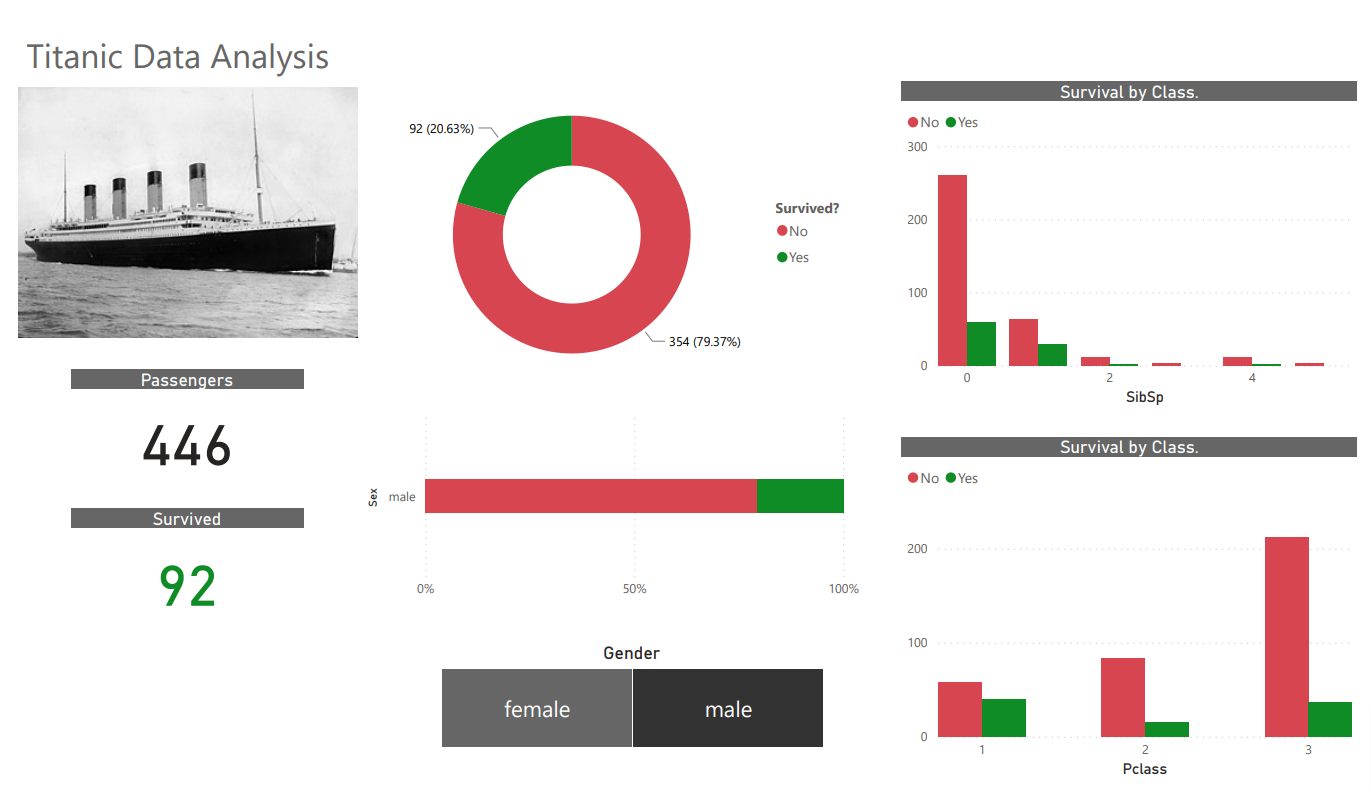

This screenshot's page, from the dashboard's own definition file:
{"tool":"powerbi","page":{"name":"Final","canvas":[1280,720],"ordinal":1},"visuals":[{"type":"image","box":[0,13.6,332.6,326.8],"z":0},{"type":"pieChart","title":"SURVIVED?","fields":{"Y":["CountNonNull(titanic_train.Sex)"],"Series":["titanic_train.Survived - Copy"]},"box":[332.6,30.2,477.6,336.5],"z":1000},{"type":"slicer","title":"Gender","fields":{"Values":["titanic_train.Sex"]},"box":[397.8,608.9,412.4,94.3],"z":2000},{"type":"clusteredColumnChart","title":"Survival by Class.","fields":{"Category":["titanic_train.Pclass"],"Y":["CountNonNull(titanic_train.Name)"],"Series":["titanic_train.Survived - Copy"]},"box":[846.2,391,433.8,328.8],"z":3000},{"type":"card","title":"Passengers","fields":{"Values":["CountNonNull(titanic_train.Name)"]},"box":[55.4,326.8,220.8,111.9],"z":4000},{"type":"clusteredColumnChart","title":"Survival by Class.","fields":{"Y":["CountNonNull(titanic_train.Name)"],"Series":["titanic_train.Survived - Copy"],"Category":["titanic_train.SibSp"]},"box":[846.2,52.5,433.8,314.2],"z":5000},{"type":"card","title":"Survived","fields":{"Values":["Sum(titanic_train.Survived)"]},"box":[55.4,459.1,220.8,114.8],"z":6000},{"type":"hundredPercentStackedBarChart","title":"Survival by Class.","fields":{"Y":["CountNonNull(titanic_train.Name)"],"Series":["titanic_train.Survived - Copy"],"Category":["titanic_train.Sex"]},"box":[332.6,359.9,477.6,193.6],"z":7000},{"type":"textbox","box":[7.8,0,475.6,52.5],"z":8001}]}

Visuals, with their boxes on the page's 1280x720 design canvas (x1, y1, x2, y2). These are canvas units, not pixel positions in the 1371x811 screenshot, which may show the page scaled, cropped or inside an application window:
image: [0, 14, 333, 340]
"SURVIVED?" pieChart: [333, 30, 810, 367]
"Gender" slicer: [398, 609, 810, 703]
"Survival by Class." clusteredColumnChart: [846, 391, 1280, 720]
"Passengers" card: [55, 327, 276, 439]
"Survival by Class." clusteredColumnChart: [846, 52, 1280, 367]
"Survived" card: [55, 459, 276, 574]
"Survival by Class." hundredPercentStackedBarChart: [333, 360, 810, 554]
textbox: [8, 0, 483, 52]
